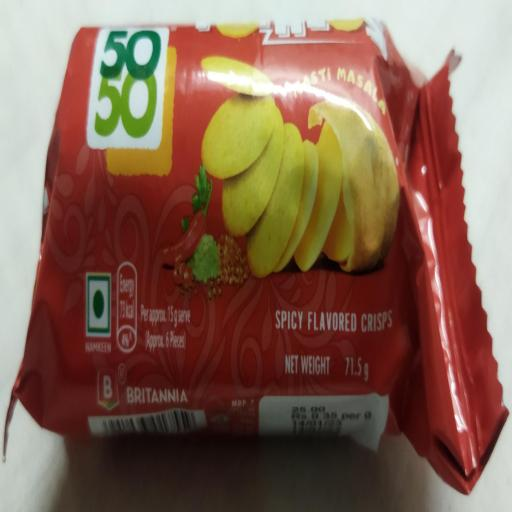potazos: (6, 20, 512, 504)
